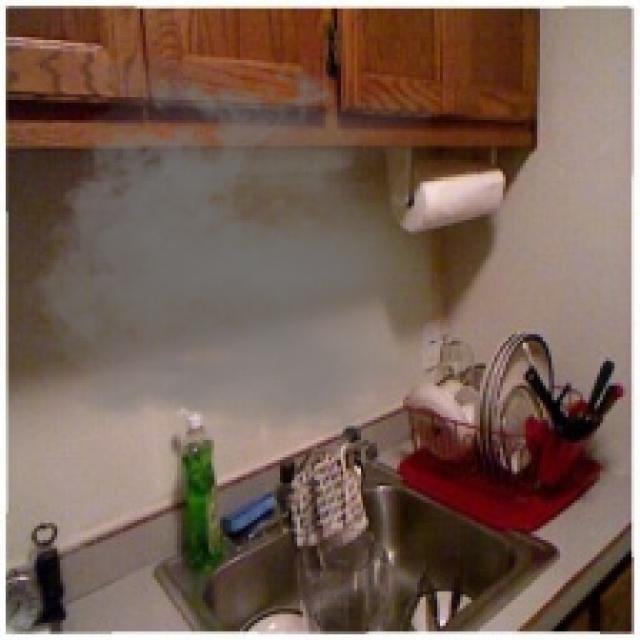Smoke: (11, 57, 432, 440)
